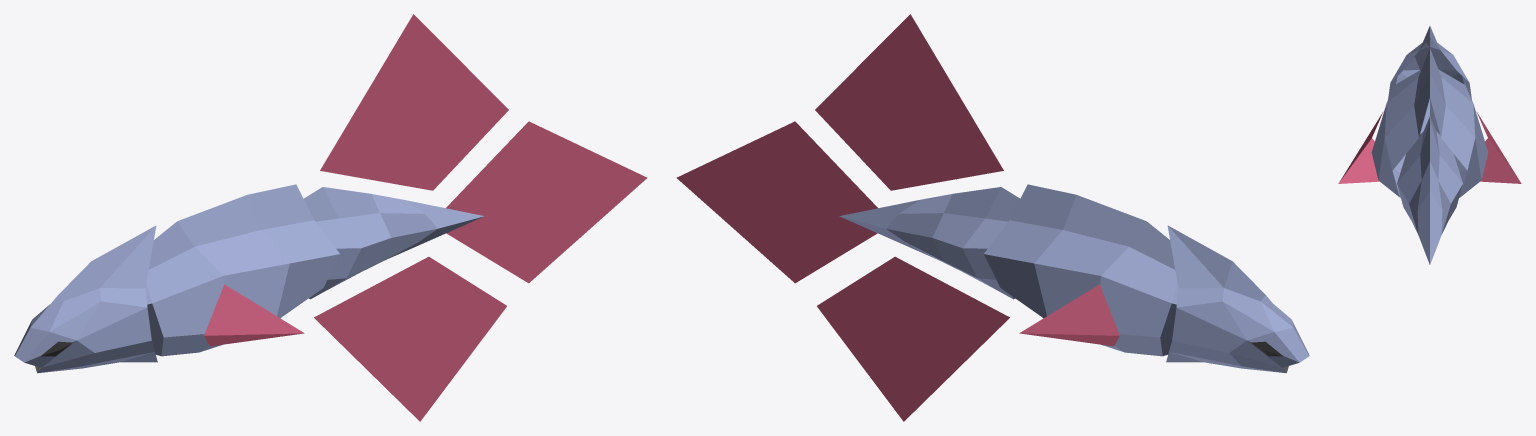
The model's file is Fish_sardine_exportready_FBX.fbx.
3 views of the same model, side by side, from view 1: azimuth 30°, elevation 25°; view 2: azimuth 150°, elevation 25°; view 3: azimuth 270°, elevation 25° (orthographic).
Visible parts, largest first — view 1: Plane.241, Icosphere.232, Icosphere.234; view 2: Plane.241, Icosphere.232, Icosphere.234; view 3: Icosphere.232, Plane.241, Icosphere.234.
Part boxes in pixels (x1=…): Plane.241: x1=304, y1=14, x2=647, y2=421; Icosphere.232: x1=145, y1=184, x2=339, y2=356; Icosphere.234: x1=14, y1=225, x2=157, y2=373; Plane.241: x1=676, y1=14, x2=1019, y2=421; Icosphere.232: x1=984, y1=184, x2=1178, y2=356; Icosphere.234: x1=1166, y1=225, x2=1309, y2=373; Icosphere.232: x1=1338, y1=48, x2=1521, y2=197; Plane.241: x1=1397, y1=117, x2=1462, y2=264; Icosphere.234: x1=1388, y1=26, x2=1471, y2=99.
Bounding box in the file's own units: 1153 × 713 × 293.
